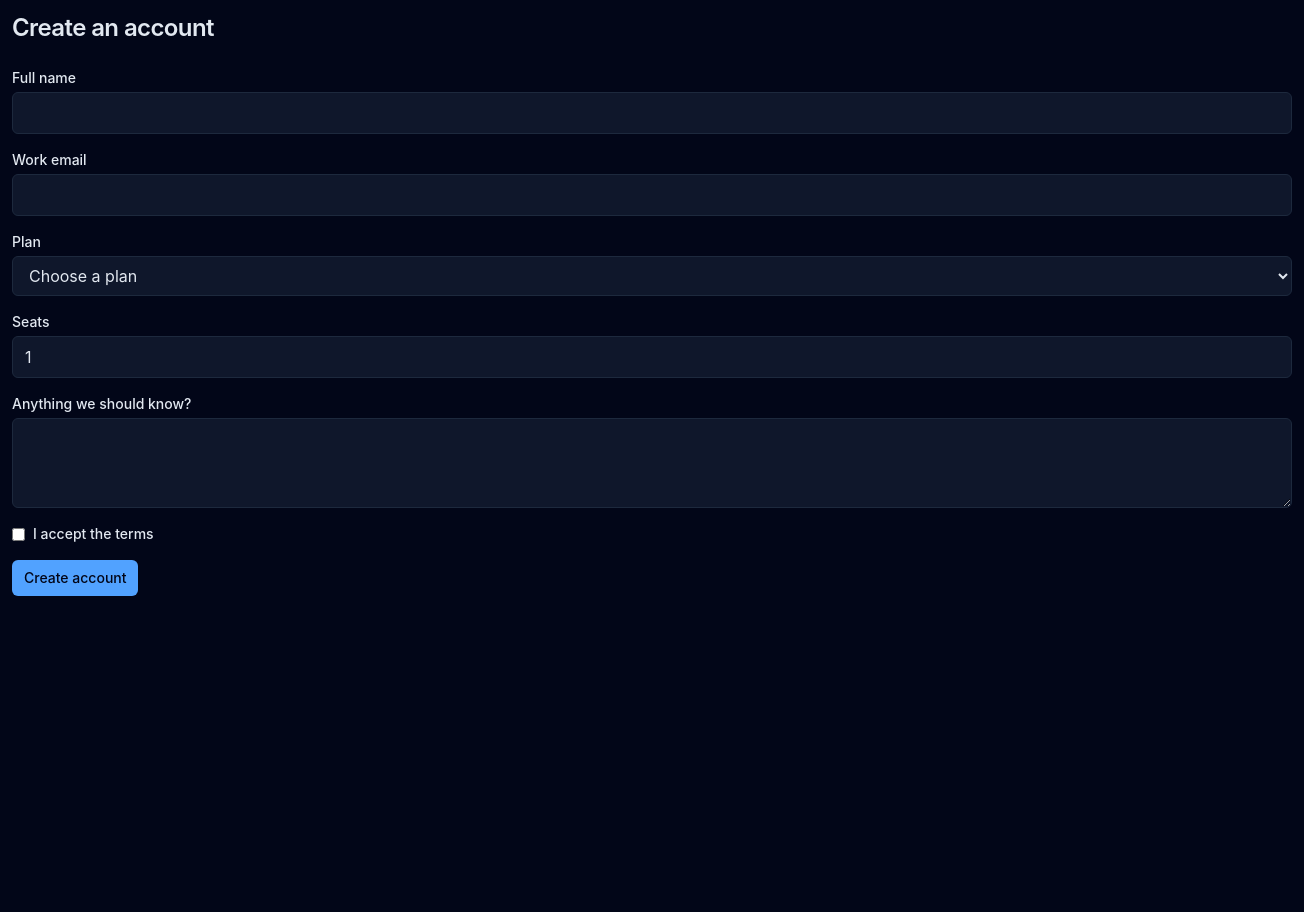
Test: SignupPage › reports every missing field at once rather than one at a time
Click the button with test id "submit-button".
click(75, 578)  # box [12,560,138,596]
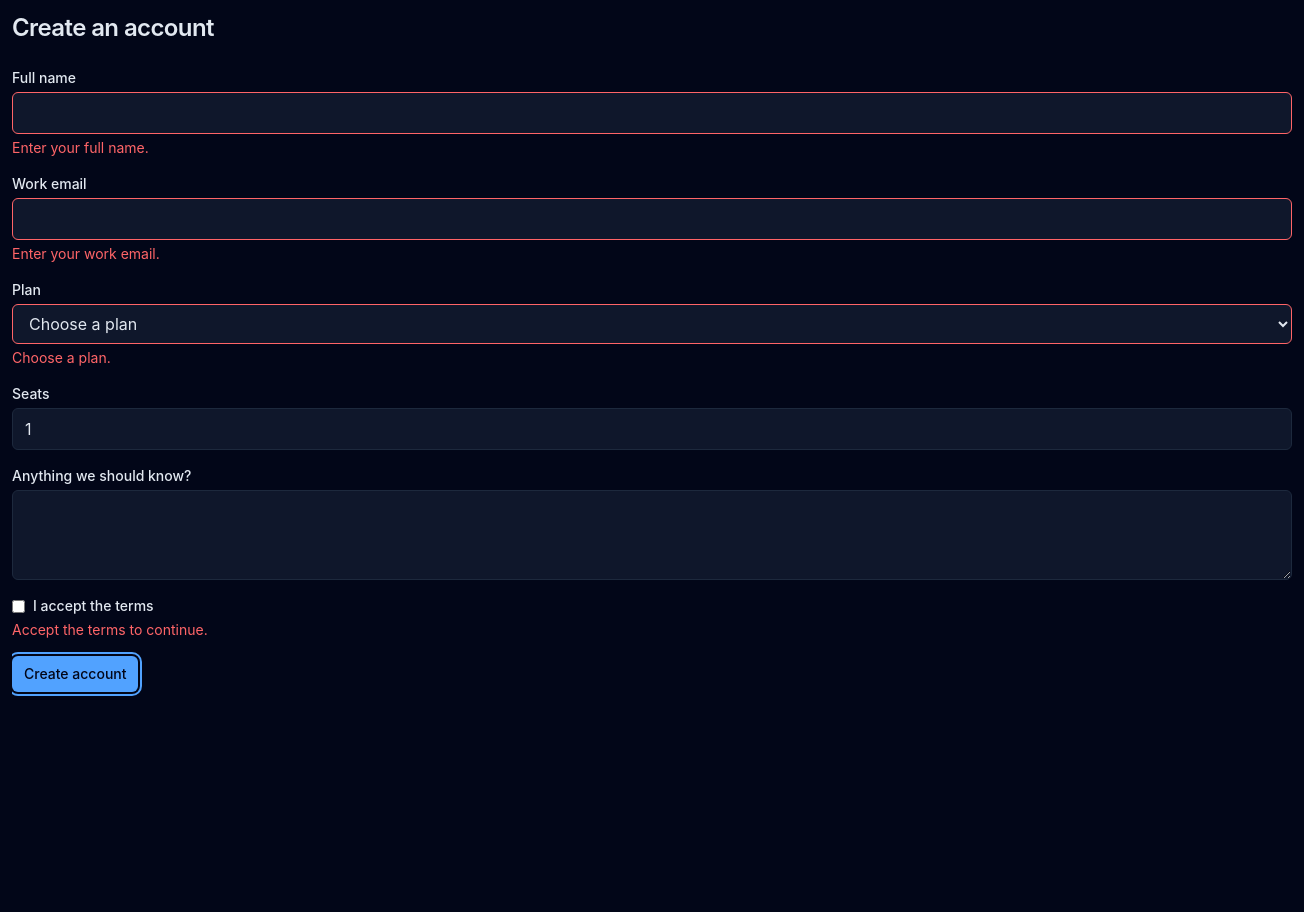
expect the text with test id "full-name-error" reads "Enter your full name.": met, box [12,139,149,156]
expect the text with test id "email-error" reads "Enter your work email.": met, box [12,245,160,262]
expect the text with test id "plan-error" reads "Choose a plan.": met, box [12,349,111,366]
